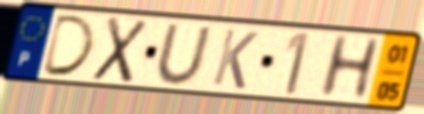1: (284, 29, 312, 98)
D: (39, 12, 99, 78)
H: (315, 33, 385, 100)
K: (209, 26, 261, 92)
U: (154, 23, 215, 88)
X: (89, 14, 151, 86)
